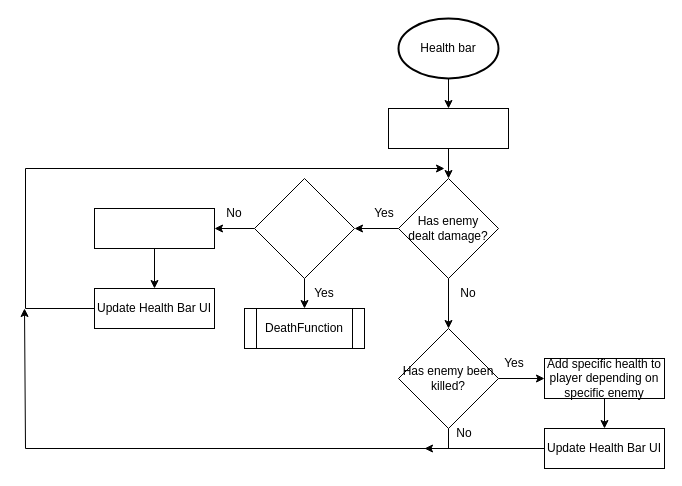
This 682x486 diagram has some shape labels left out. Here are the shapes that lost their labels. From the top down, the centre of each, then its label:
At (x=448, y=128): "Set Health bar to 100 at start of level".
At (x=154, y=228): "Take away the enemys damage from current health".
At (x=304, y=228): "is the players health below 0?".
